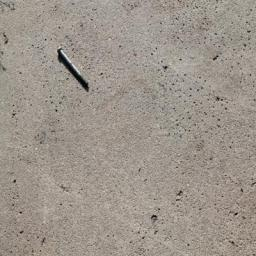FOD: (57, 43, 94, 92)
